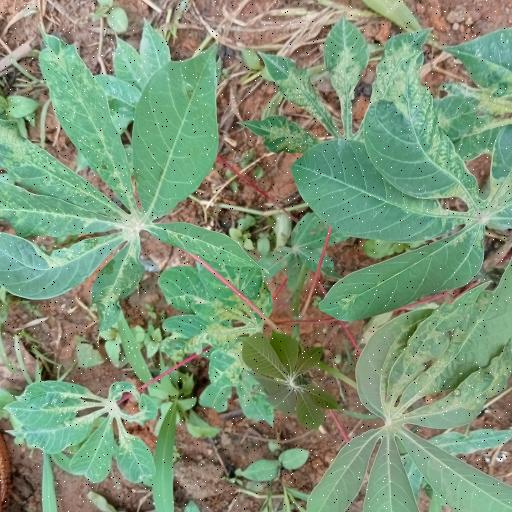Cassava_Mosaic: (0, 38, 227, 322), (301, 84, 512, 314), (330, 327, 512, 512)
